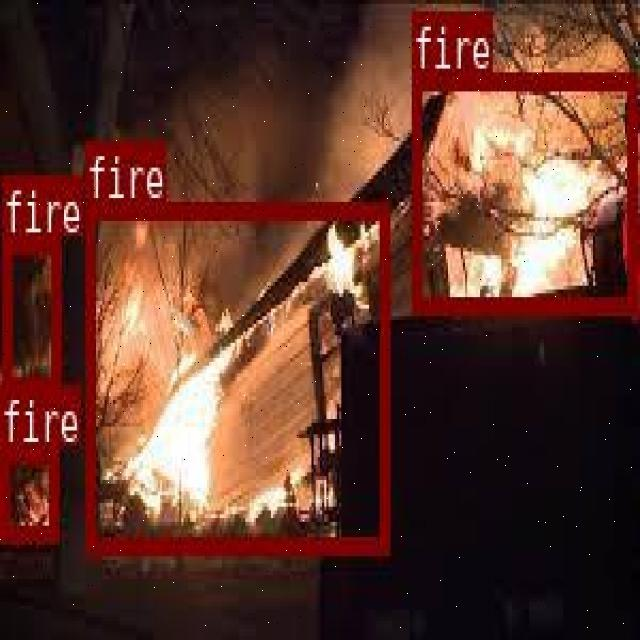fire: (85, 201, 387, 550), (411, 69, 634, 309), (1, 233, 59, 392), (0, 446, 58, 537)
